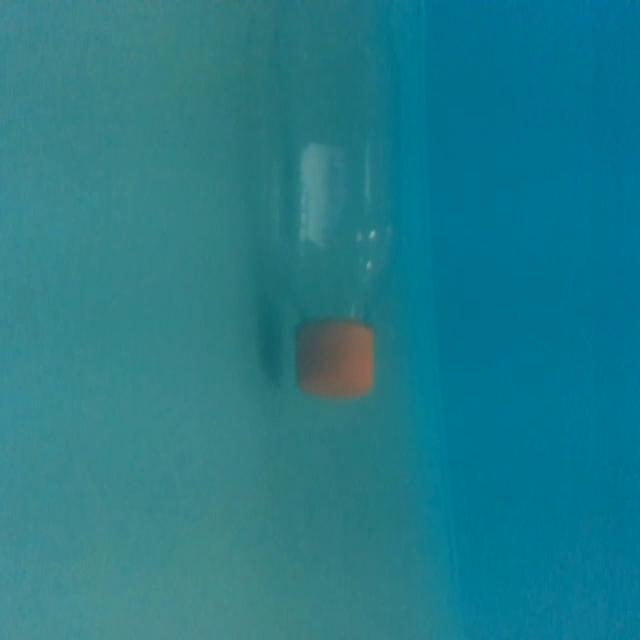plastic bottle: (244, 4, 406, 400)
